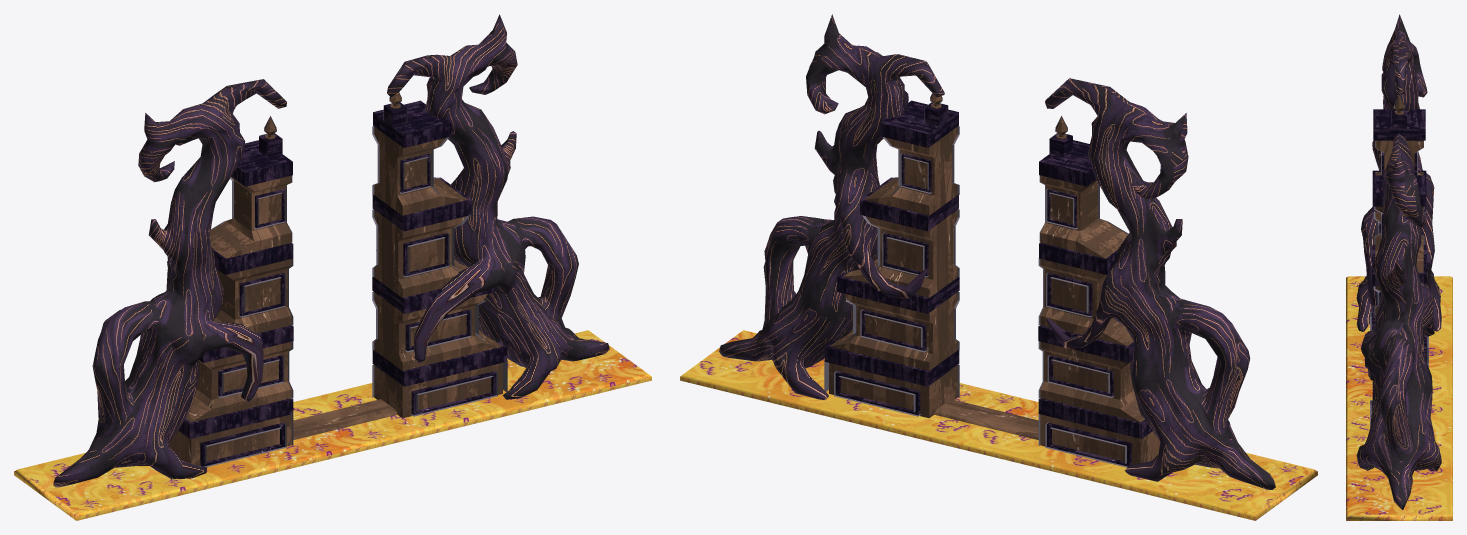
File: entity59614.gltf
The picture shows the model from 3 angles, left to right: view 1: azimuth 30°, elevation 25°; view 2: azimuth 150°, elevation 25°; view 3: azimuth 270°, elevation 25°; orthographic projection. The views are drawn at different scales.
Parts seen in each view (by area): view 1: node_mesh_skydoor_01; view 2: node_mesh_skydoor_01; view 3: node_mesh_skydoor_01.
Part boxes in pixels (x1,y1,x2,y2): node_mesh_skydoor_01: [14, 14, 651, 520]; node_mesh_skydoor_01: [680, 14, 1317, 520]; node_mesh_skydoor_01: [1346, 14, 1452, 520].
Size of the model in its own units: 2004 by 1242 by 377.
5 materials, 4 textured.
